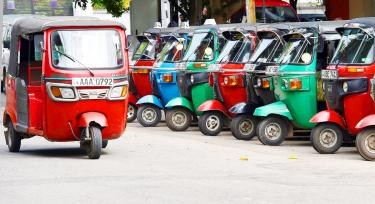tuk tuk: (1, 16, 132, 159), (310, 18, 375, 153), (254, 20, 311, 145), (165, 20, 216, 134), (231, 26, 276, 145), (199, 26, 245, 135), (137, 27, 179, 128), (126, 22, 165, 125)
